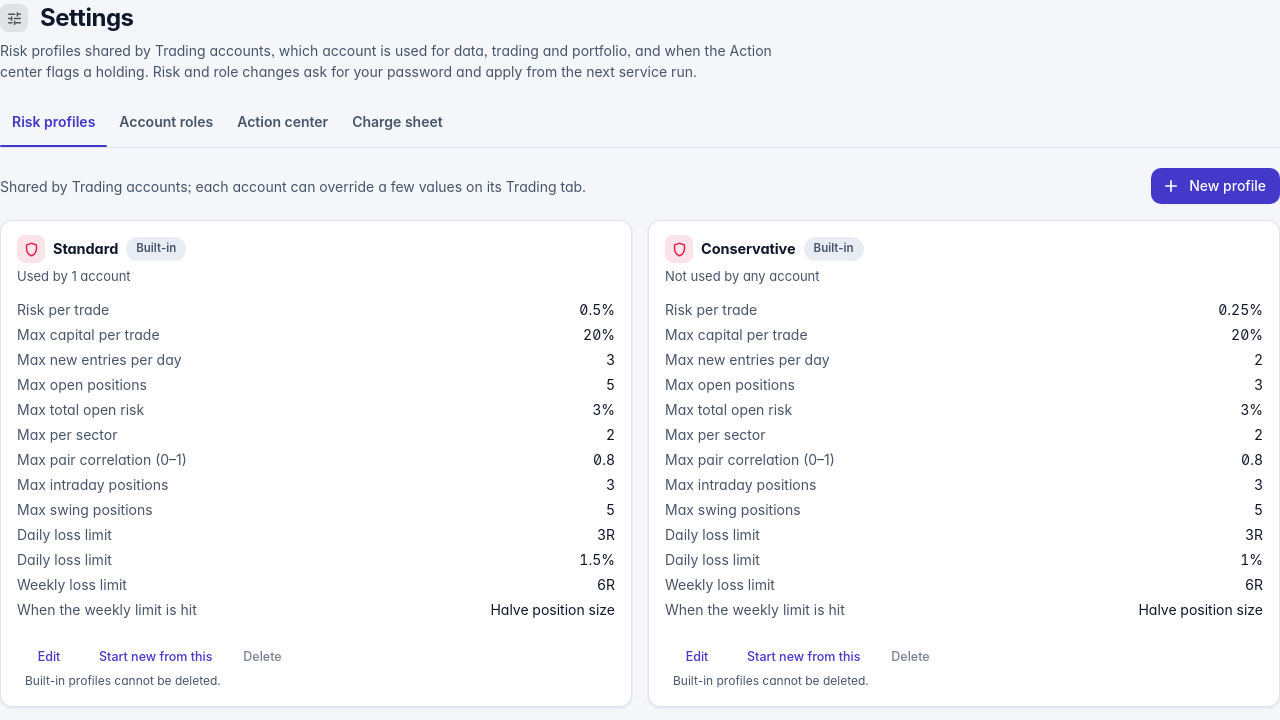
Risk profiles › validates limits next to the fields before sending
Click the button with aria-label "Edit Standard": click(49, 656) [17, 642, 81, 672]
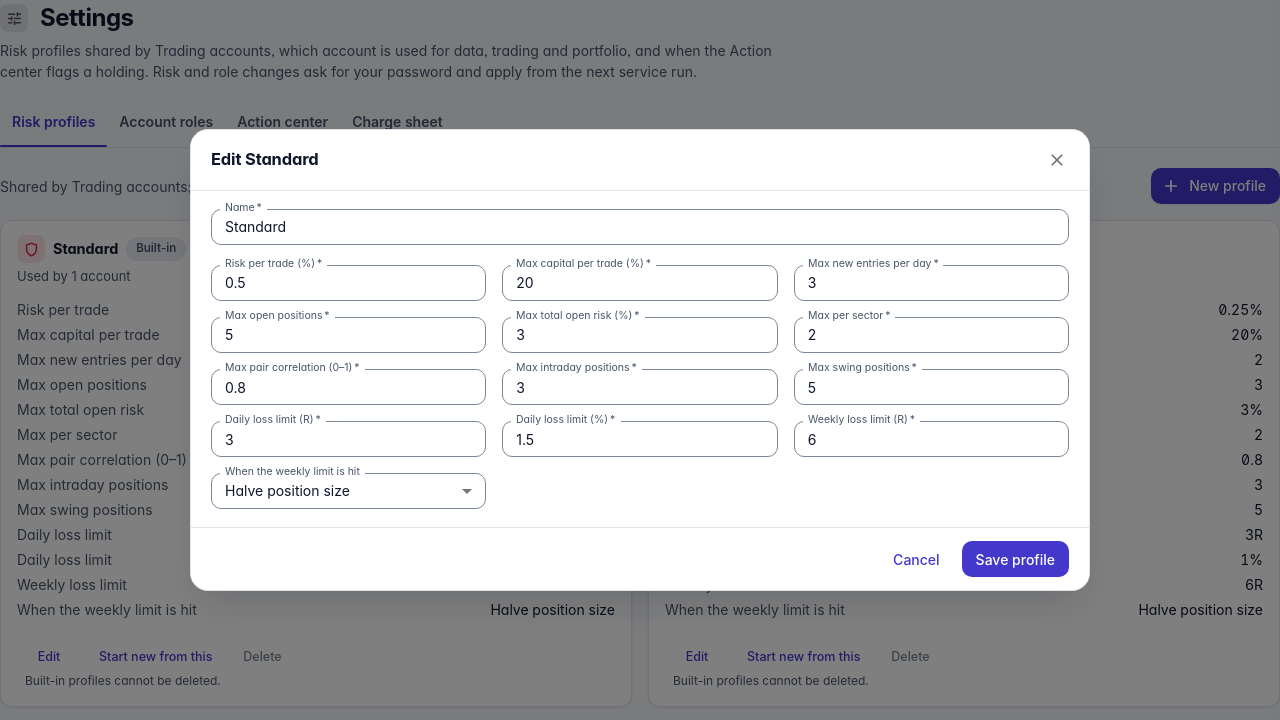
Replace the text in the number field labelled "Risk per trade (%) *" with "2.5": (349, 283) [211, 265, 486, 301]
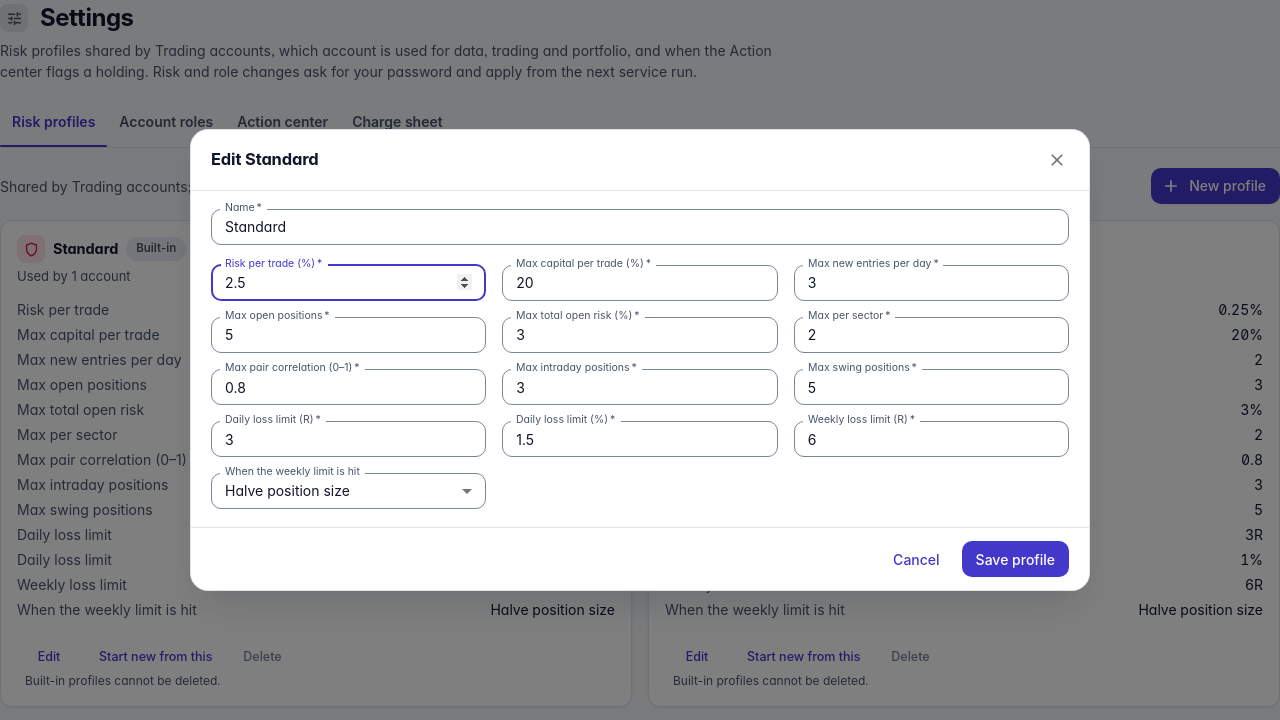
Replace the text in the number field labelled "Max per sector *" with "1.5": (931, 335) [794, 317, 1069, 353]
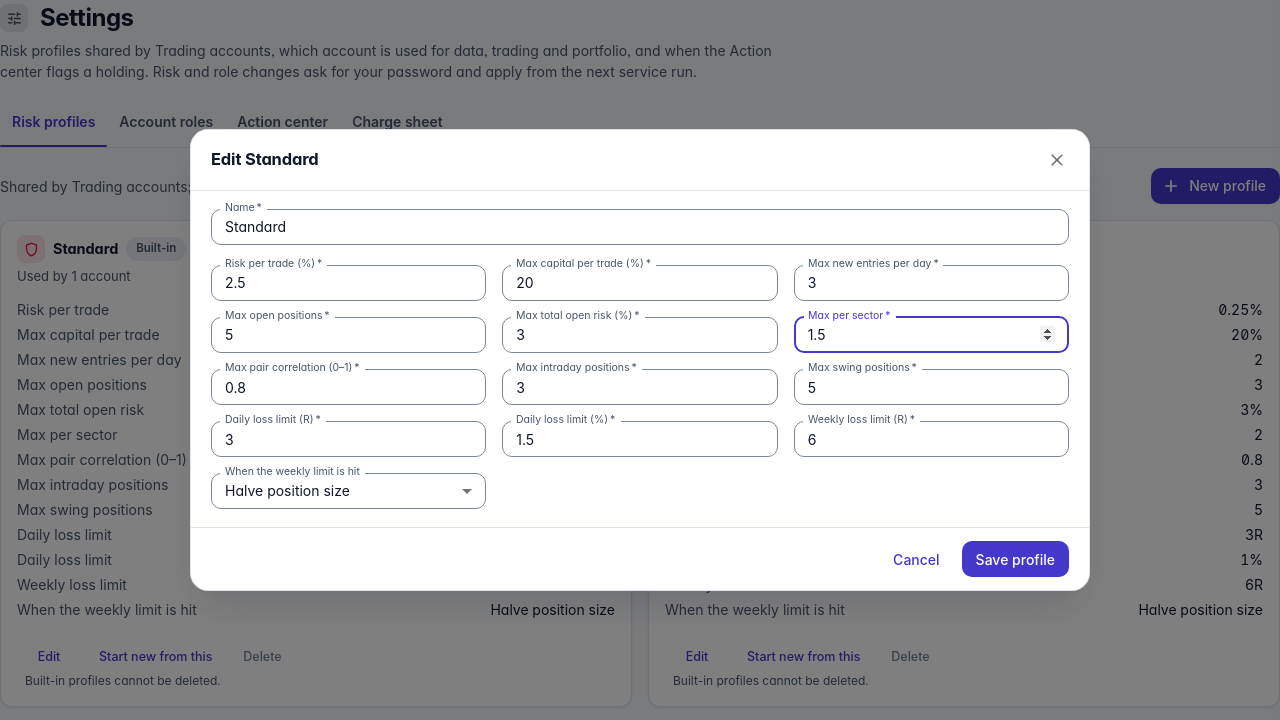
Click the button "Save profile": click(1015, 559) [962, 541, 1069, 577]
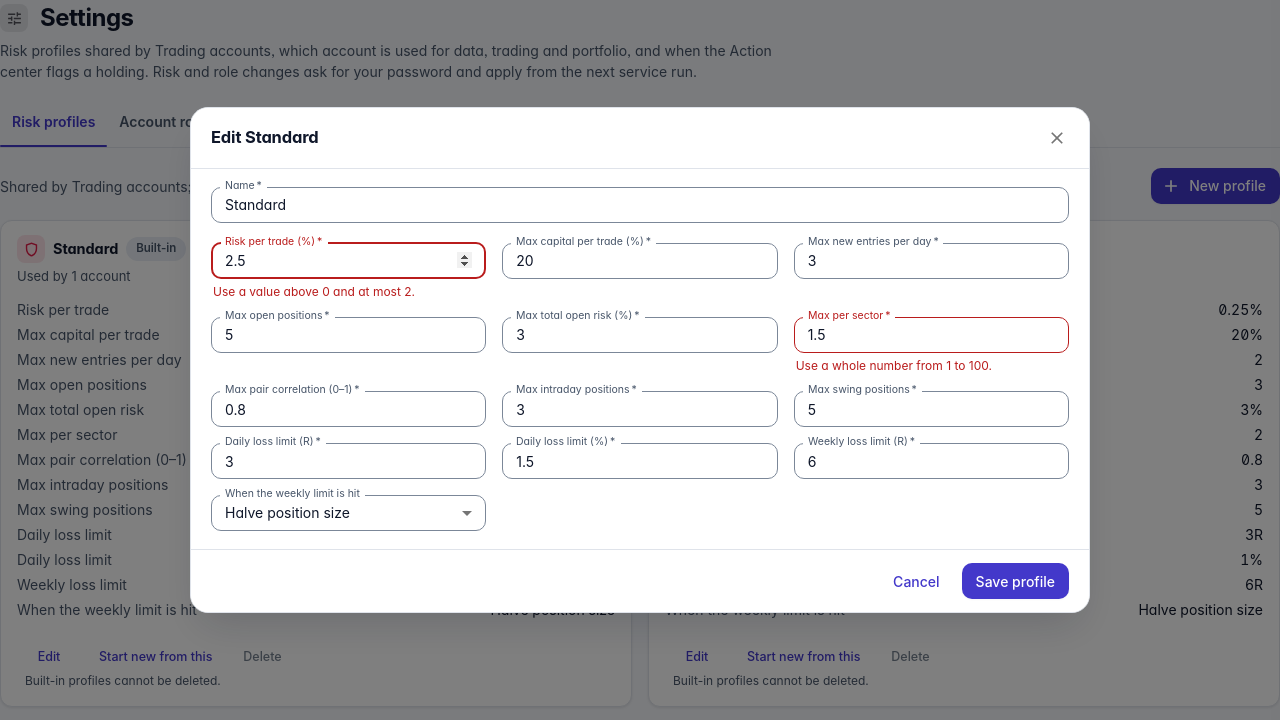
Result: the text "Use a value above 0 and at most 2." is shown at [213, 284, 415, 299]
Result: the text "Use a whole number from 1 to 100." is shown at [796, 358, 992, 373]
